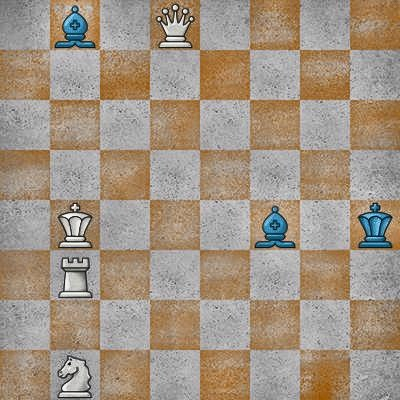black-bishop: (50, 0, 100, 50), (250, 200, 300, 250)
black-king: (350, 200, 400, 250)
white-king: (50, 200, 100, 250)
white-knight: (50, 350, 100, 400)
white-queen: (150, 0, 200, 50)
white-rook: (50, 250, 100, 300)
